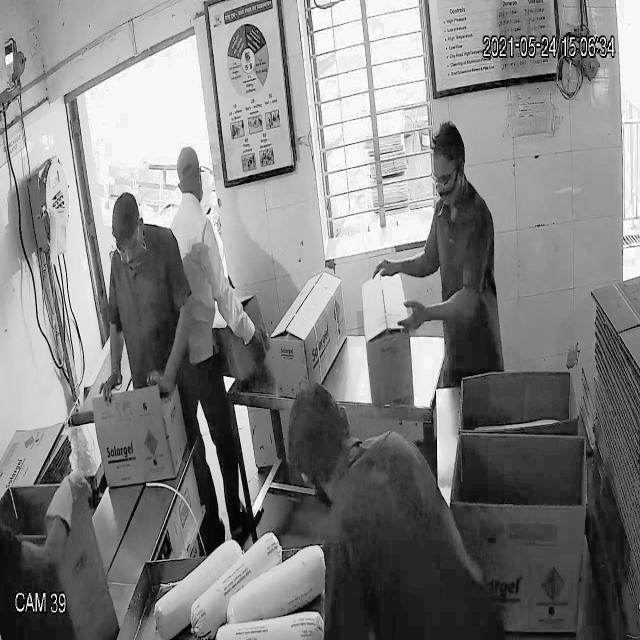glasses: (427, 159, 467, 193)
